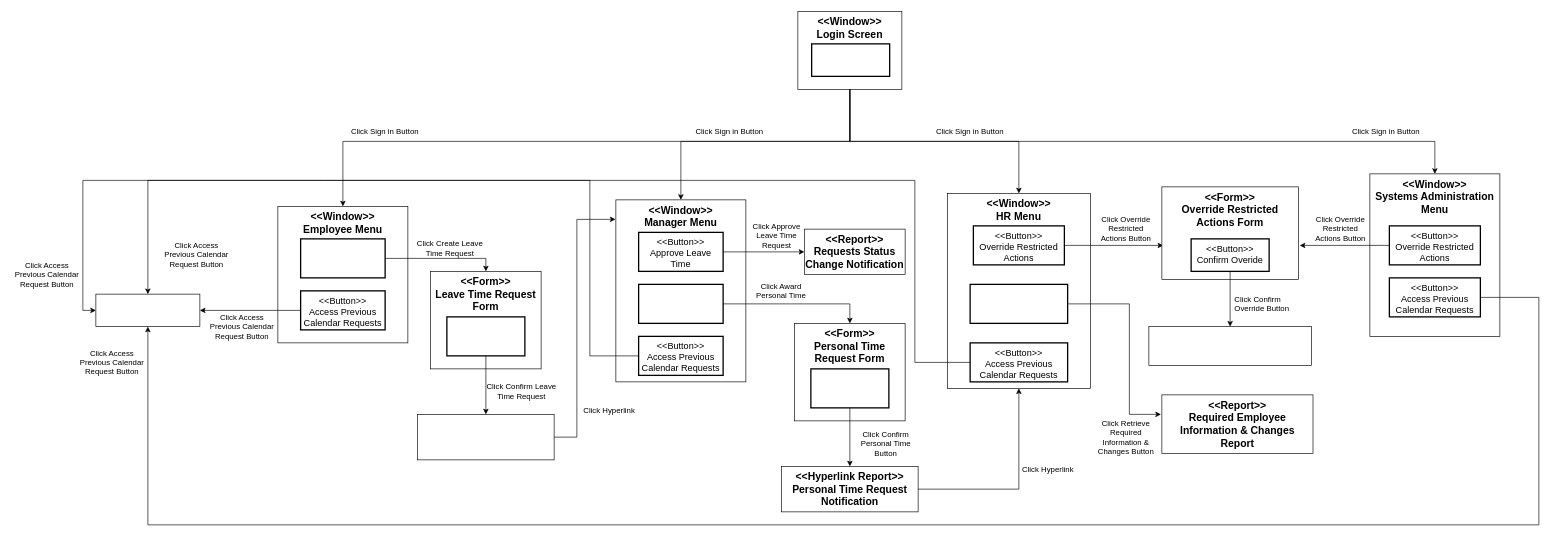
Image size: 1555x541. Some labels were removed from this diagram. The shapes that lost their labels are listed below. From the top down, each one's centre as x and y in pixels, then its label:
the point at 850,60: <<Button>> Sign in
the point at 342,258: <<Button>> Create Leave Time Request
the point at 147,310: <<Report>> Previous Requests
the point at 680,303: <<Button>> Award Personal Time
the point at 1018,303: <<Button>> Retrieve Required Information & Changes
the point at 485,336: <<Button>> Confirm Leave Time Request
the point at 1229,346: <<Report>> Override Status Notification & Override Log
the point at 849,388: <<Button>> Confirm Personal Time
the point at 485,437: <<Hyperlink Report>> Leave Time Request Notifcation
